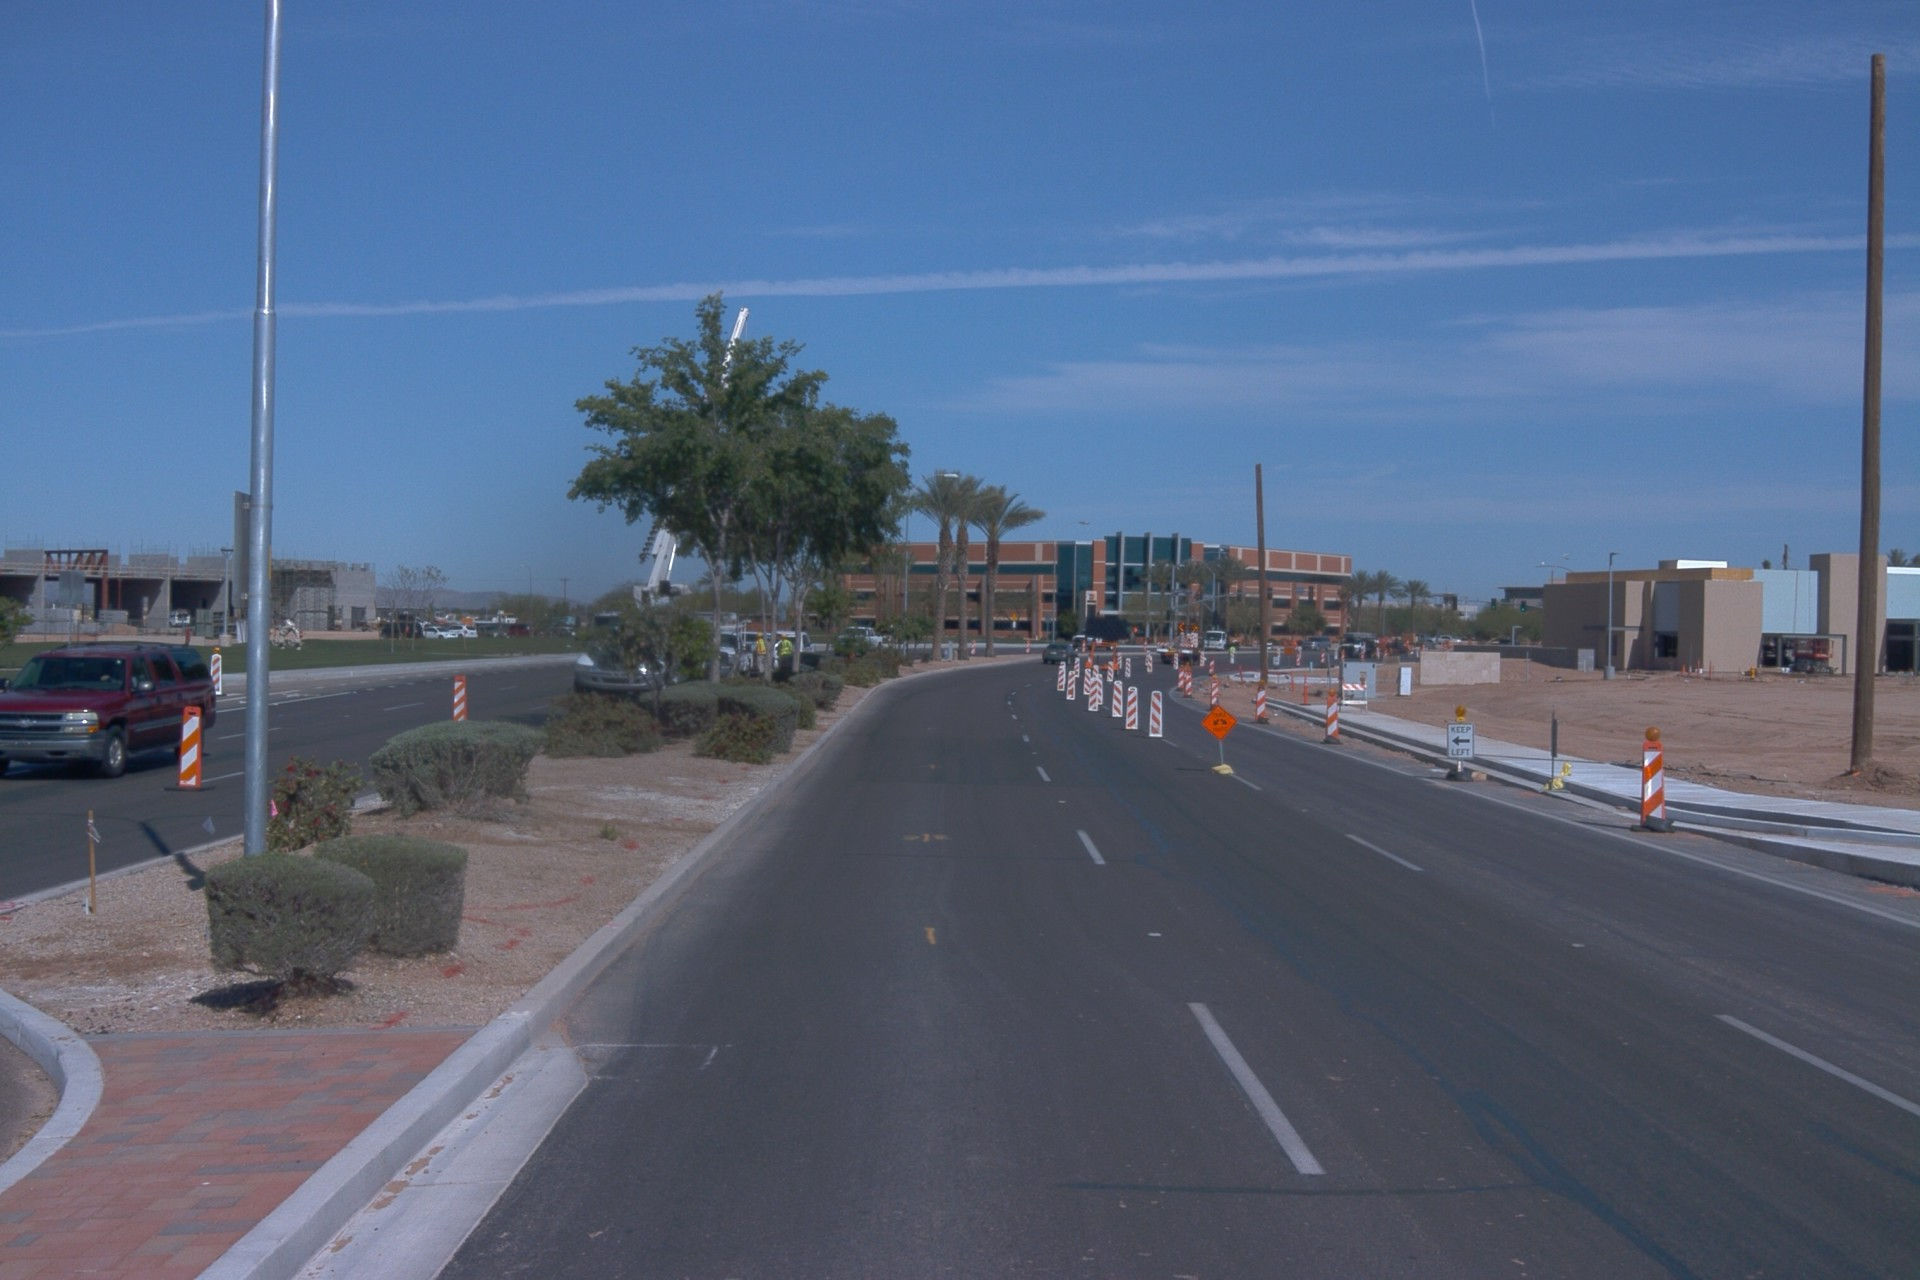TYPE_PEDESTRIAN: (751, 633, 768, 676), (773, 633, 793, 658), (1227, 643, 1238, 664)
TYPE_VEHICLE: (565, 296, 757, 711), (0, 631, 224, 781), (705, 548, 834, 681), (1080, 608, 1132, 683), (699, 628, 754, 682), (1149, 618, 1208, 665), (1335, 631, 1415, 662), (774, 627, 816, 669), (831, 626, 888, 655), (744, 628, 777, 678), (1068, 622, 1119, 654), (712, 610, 751, 648), (380, 619, 426, 644), (1200, 628, 1242, 653), (1041, 642, 1081, 668), (413, 622, 459, 642), (505, 623, 551, 640), (471, 621, 510, 640), (384, 616, 430, 632), (444, 624, 481, 642), (165, 610, 192, 631), (1299, 633, 1332, 650)
